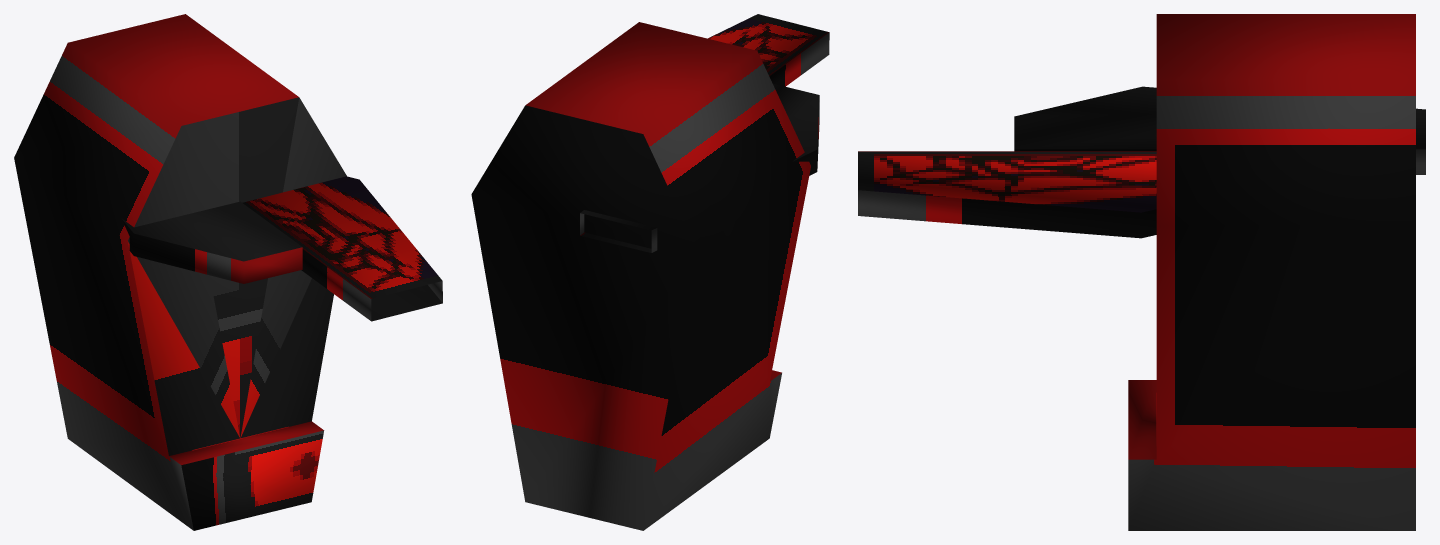
3 renders of one model, left to right at view 1: azimuth 30°, elevation 25°; view 2: azimuth 150°, elevation 25°; view 3: azimuth 270°, elevation 25°, orthographic. The views are drawn at different scales.
Parts seen in each view (by area): view 1: 3160IMFY04_02; view 2: 3160IMFY04_02; view 3: 3160IMFY04_02.
Boxes of the visible parts, x1=… form: 3160IMFY04_02: x1=14, y1=14, x2=442, y2=530; 3160IMFY04_02: x1=471, y1=14, x2=829, y2=530; 3160IMFY04_02: x1=858, y1=14, x2=1425, y2=530.
Size of the model in its own units: 1 by 1.68 by 1.91.
1 material, 1 textured.
